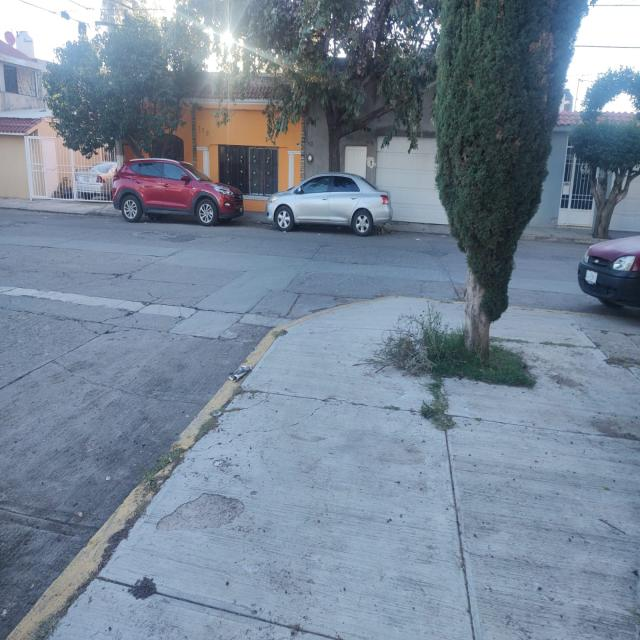Auto: (110, 156, 240, 227), (266, 170, 391, 234), (574, 227, 640, 315), (74, 162, 118, 198)
